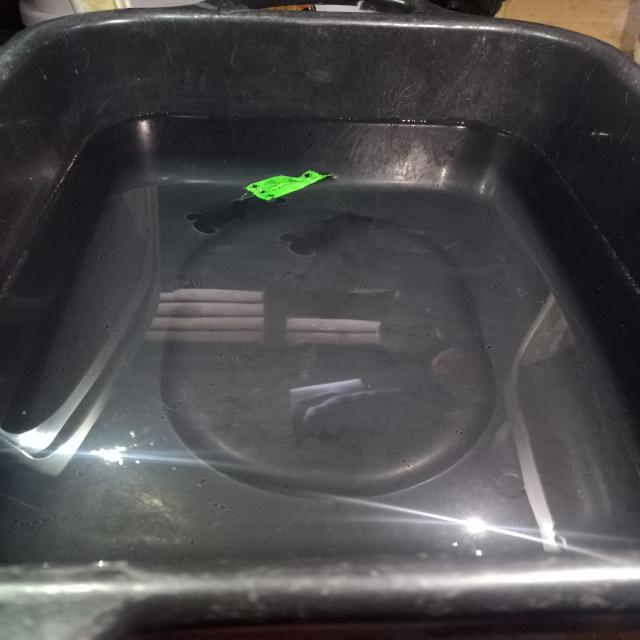Plastic Wrapper: (226, 152, 350, 216)
